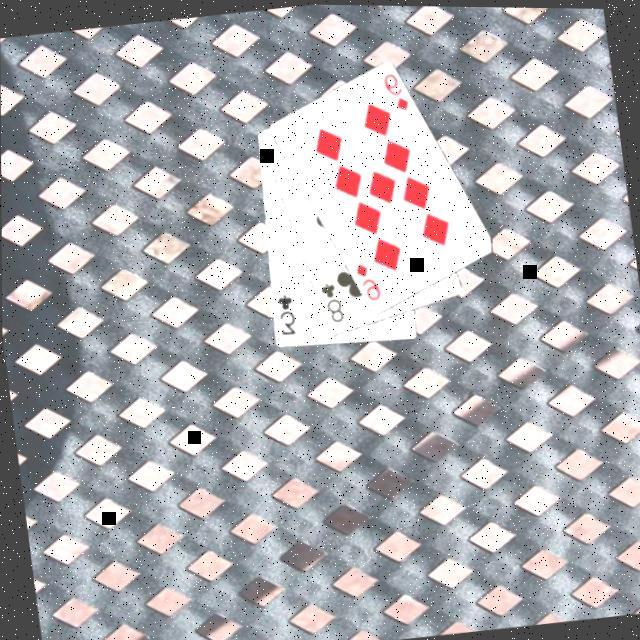3C: (270, 288, 298, 336)
8C: (314, 274, 346, 324)
9D: (349, 255, 382, 303), (378, 65, 410, 113)
